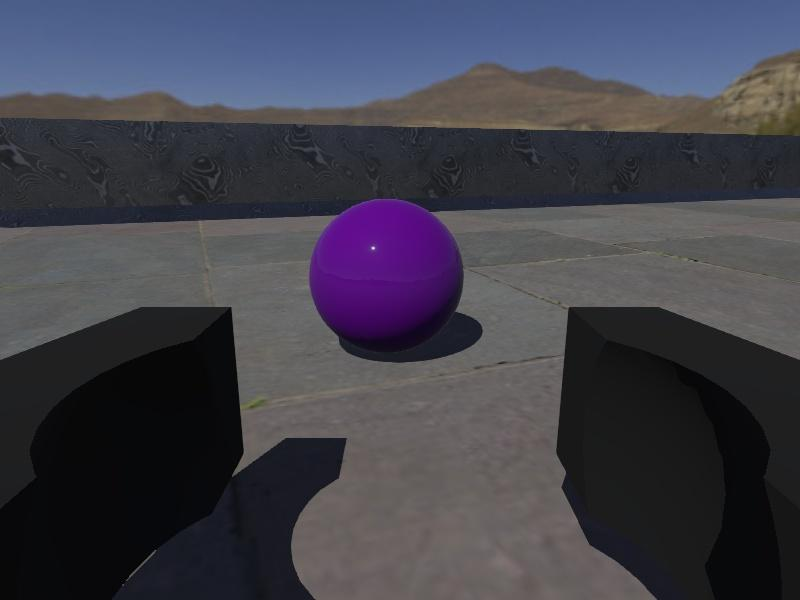violet ball: (308, 197, 465, 355)
